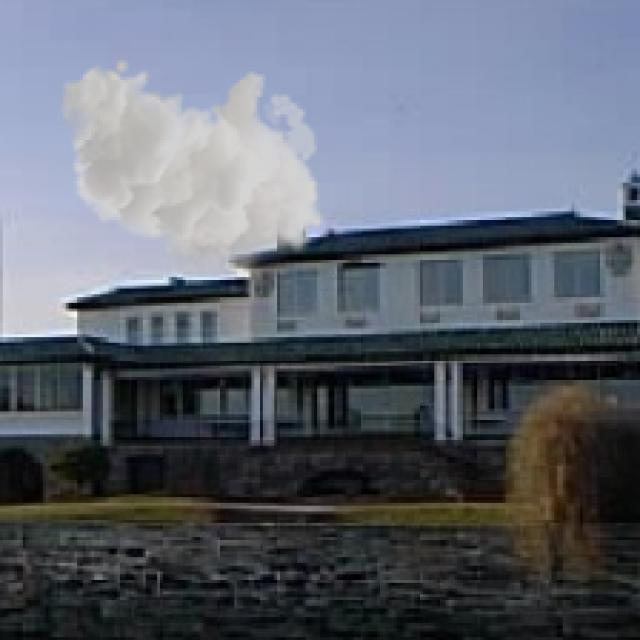Smoke: (60, 57, 326, 283)
